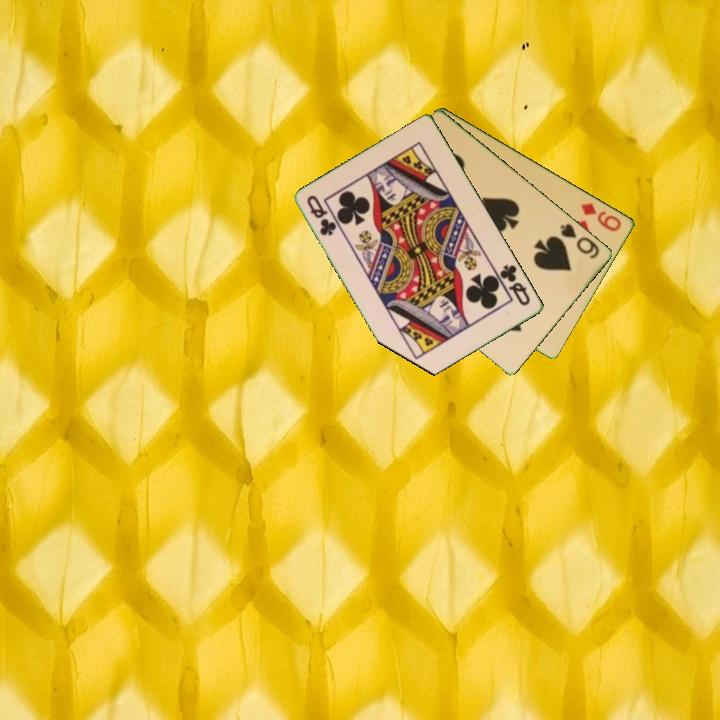6s: (557, 220, 603, 261)
9d: (578, 199, 625, 234)
Qc: (496, 261, 534, 309), (304, 191, 340, 239)
